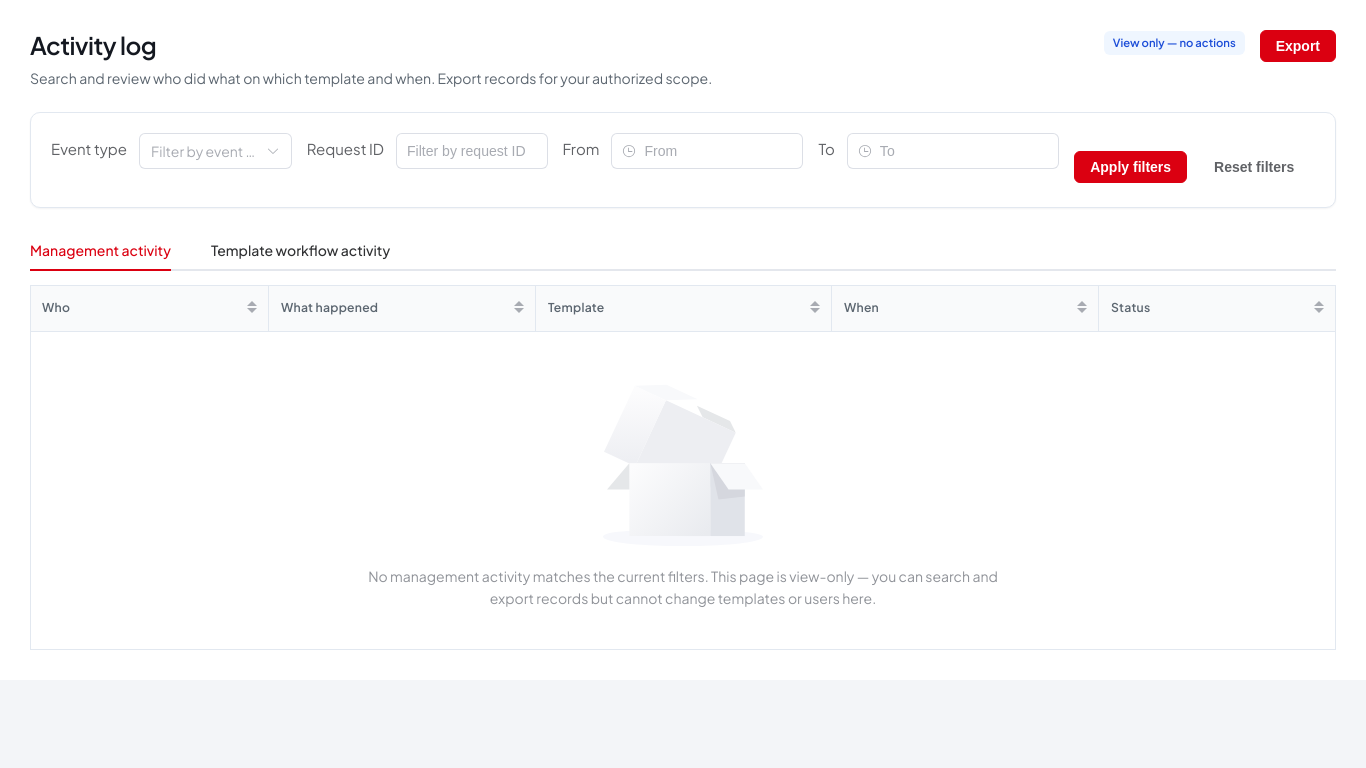
Test: AuditConsoleView › formats lifecycle PUBLISH as a business label in the table
Click the tab "Template workflow activity". click: (301, 250)
box: [211,241,390,259]
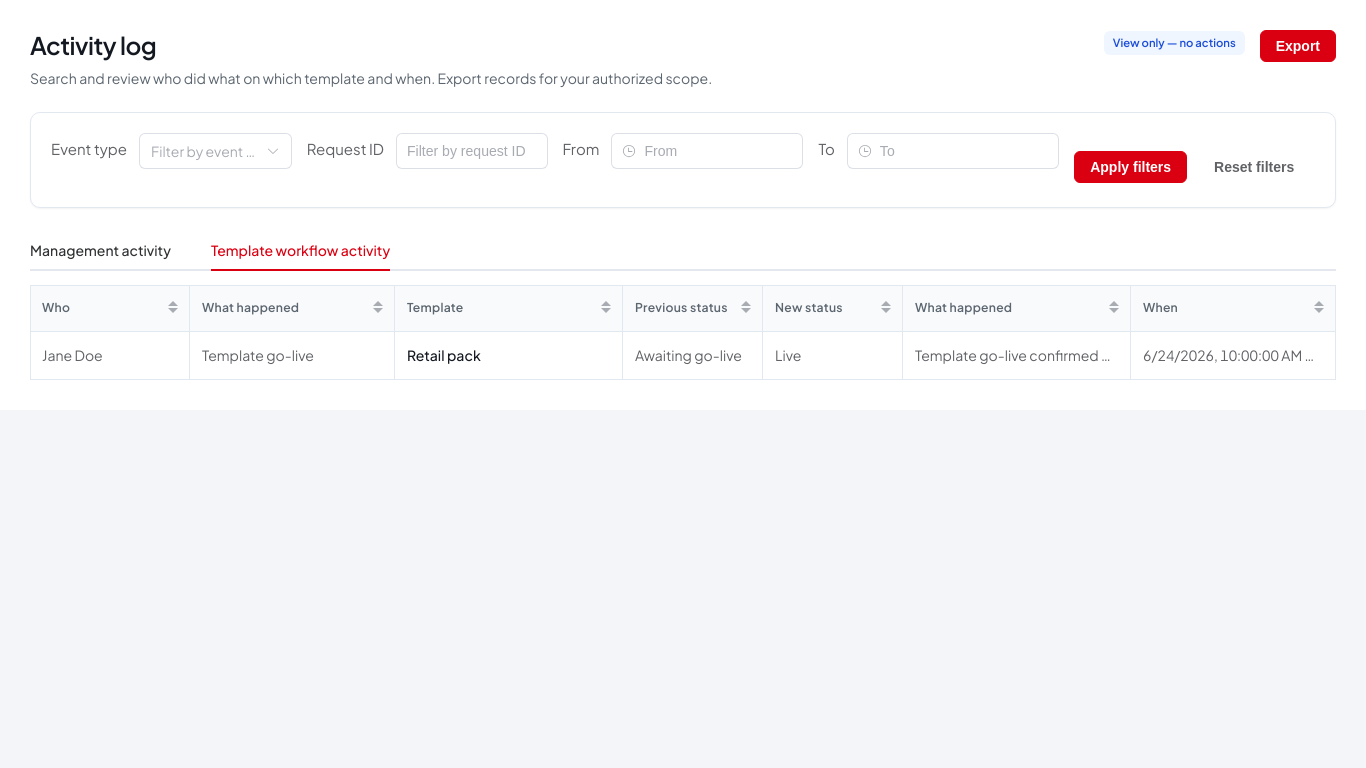
Expected: the text "Template go-live" is shown, [202,346,314,364]
Expected: the text "Jane Doe" is shown, [42,346,103,364]
Expected: the text "Template go-live confirmed on behalf of team lead" is shown, [903,345,1129,366]
